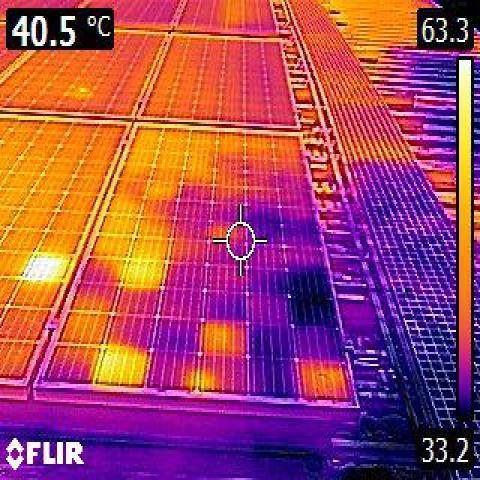fault: (103, 347, 147, 382), (34, 255, 68, 283)
